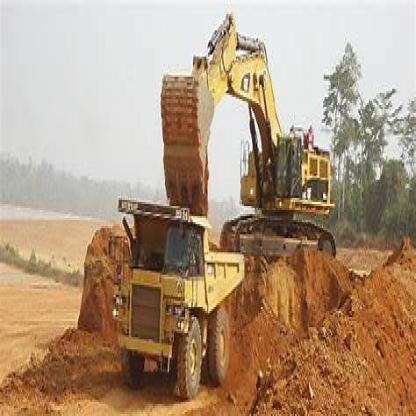dump_truck: (112, 189, 268, 382)
excavator: (157, 0, 338, 301)
